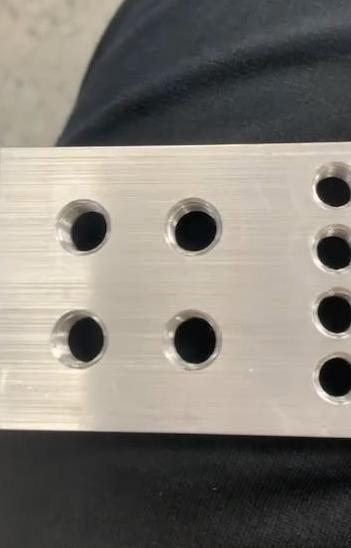hole: (162, 309, 228, 379), (164, 193, 230, 259), (48, 307, 112, 371), (54, 196, 114, 255), (310, 347, 351, 409), (311, 287, 351, 340), (310, 160, 351, 211), (310, 225, 351, 275)
